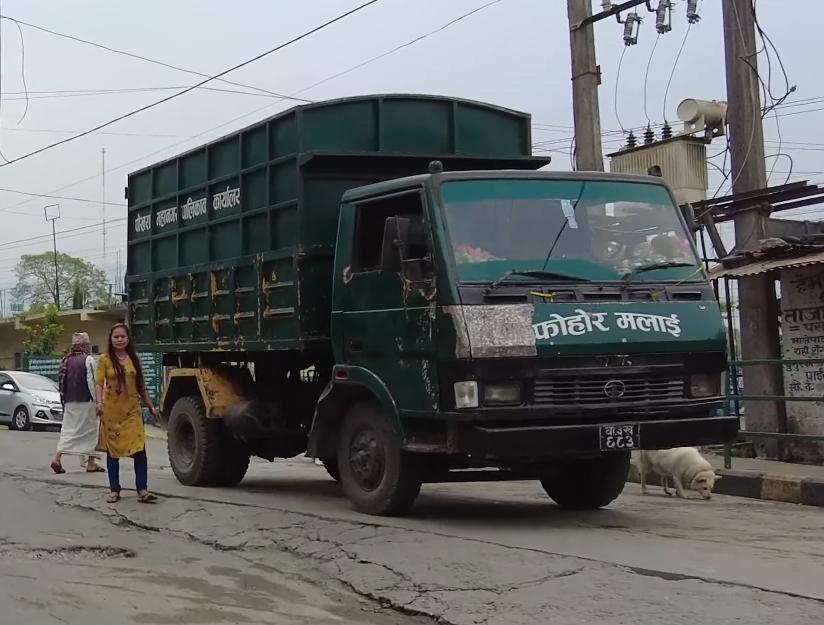car: (0, 362, 68, 431)
mini_truck: (120, 86, 749, 534)
